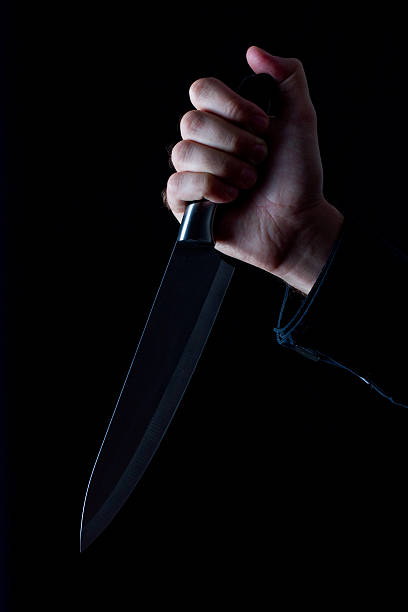knife: (74, 68, 289, 557)
